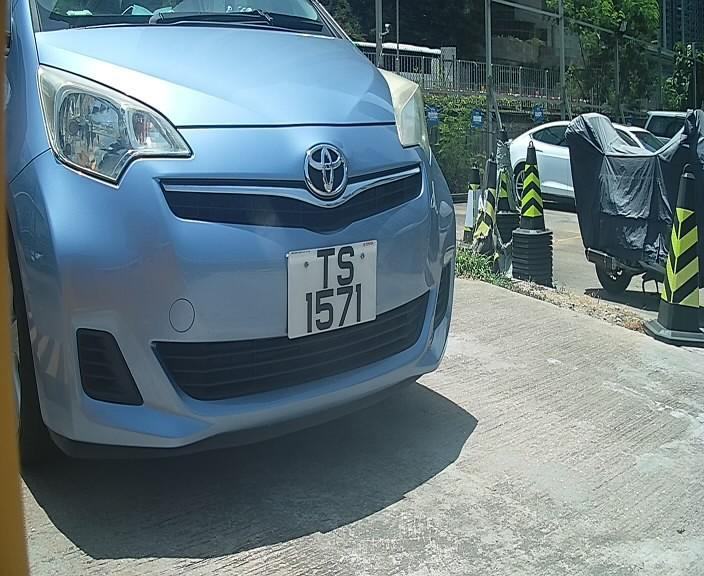Car: (1, 6, 485, 502)
License Plate: (277, 232, 384, 350)
